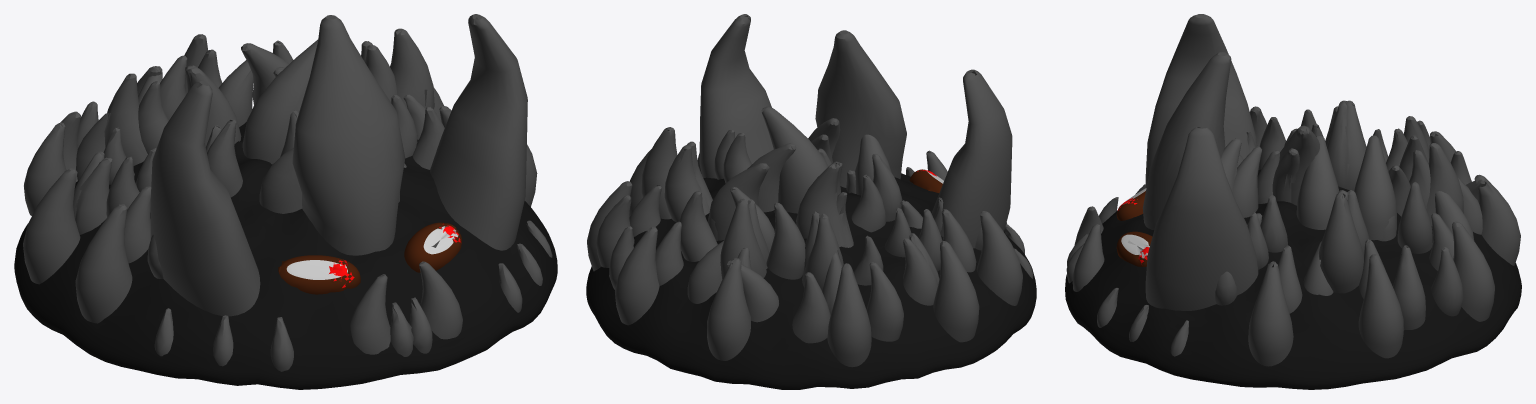
Rendered from 地刺王.obj.
3 views of the same model, side by side, from view 1: azimuth 30°, elevation 25°; view 2: azimuth 150°, elevation 25°; view 3: azimuth 270°, elevation 25° (orthographic). The views are drawn at different scales.
Visible parts, largest first — view 1: yanglintaobao888_40; view 2: yanglintaobao888_40; view 3: yanglintaobao888_40.
Part boxes in pixels (<box>): yanglintaobao888_40: <box>14,14,557,389</box>; yanglintaobao888_40: <box>586,14,1036,389</box>; yanglintaobao888_40: <box>1065,14,1521,389</box>.
Bounding box in the file's own units: 1.77 × 1.06 × 1.77.
